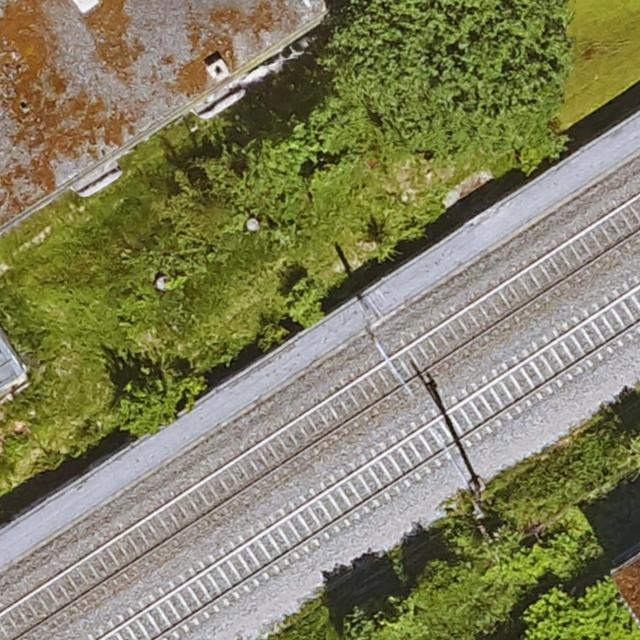tree: (326, 0, 566, 158), (203, 135, 309, 228), (401, 562, 504, 639), (524, 581, 636, 640), (114, 368, 189, 433)
